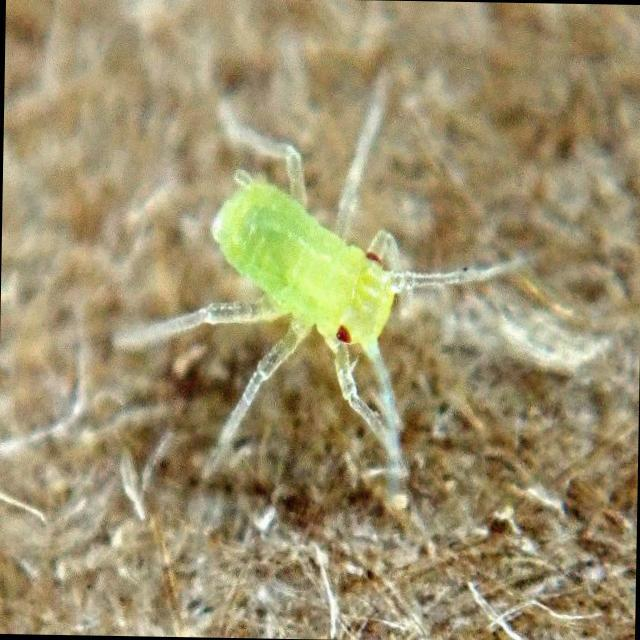aphid: (97, 95, 510, 532)
